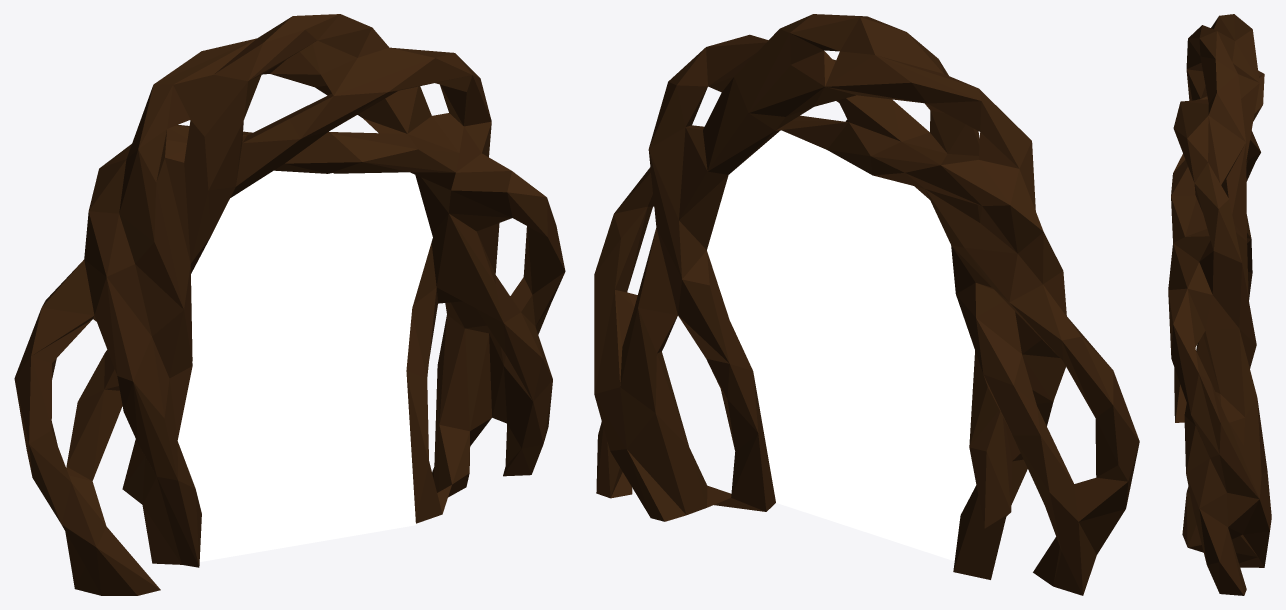
File: Portal_Wooden_Emission.glb
The picture shows the model from 3 angles, left to right: view 1: azimuth 30°, elevation 25°; view 2: azimuth 150°, elevation 25°; view 3: azimuth 270°, elevation 25°; orthographic projection. The views are drawn at different scales.
Parts seen in each view (by area): view 1: Wooden_portal; view 2: Wooden_portal; view 3: Wooden_portal.
Boxes of the visible parts, left/top/right/bottom form: Wooden_portal: left=14, top=14, right=565, bottom=595; Wooden_portal: left=594, top=14, right=1139, bottom=595; Wooden_portal: left=1168, top=14, right=1271, bottom=595.
Size of the model in its own units: 2.11 by 1.97 by 0.4026.
